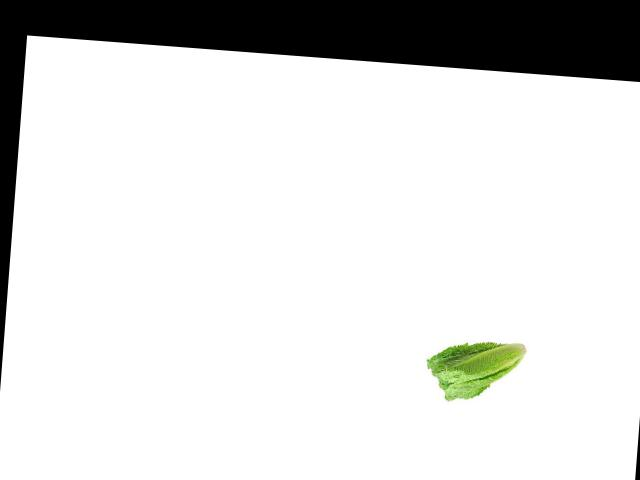lettuce: (423, 335, 536, 407)
